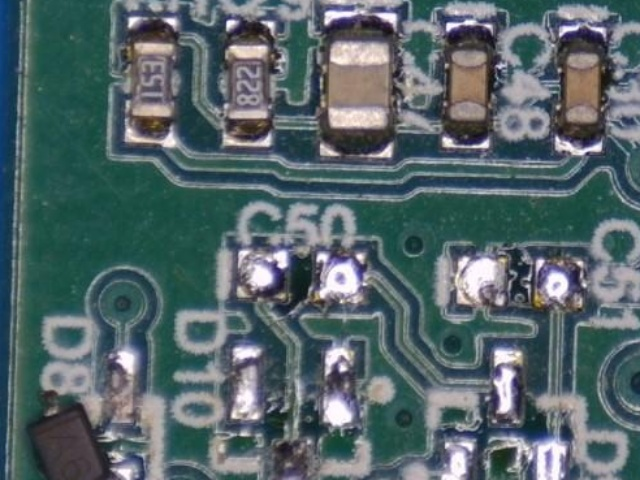pcb_defect: (26, 389, 135, 480)
